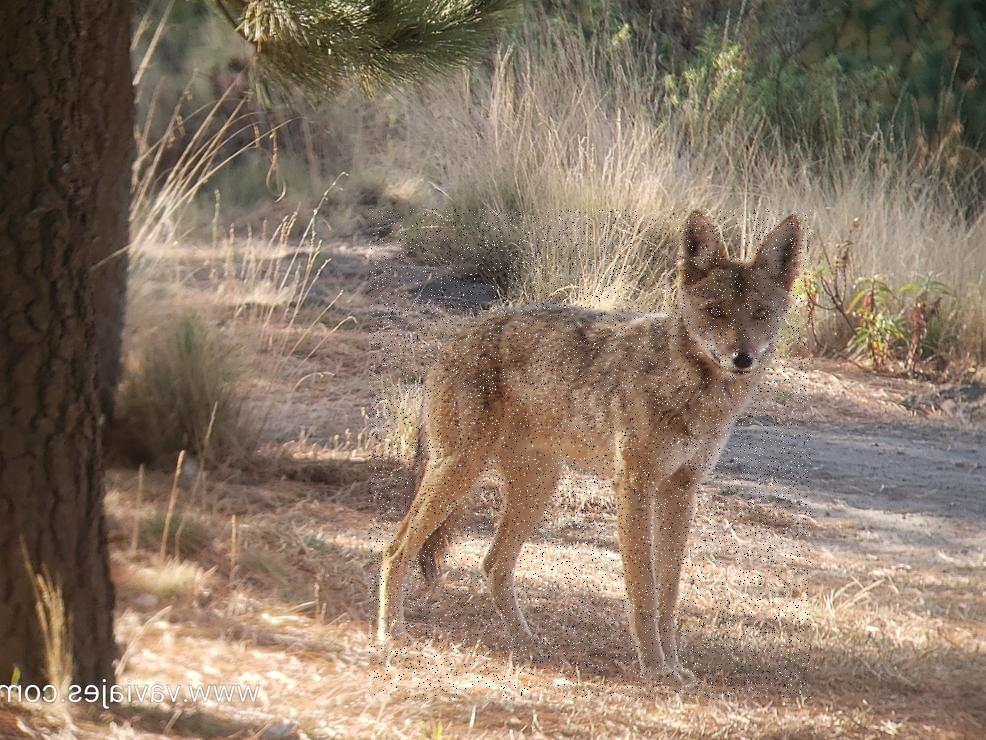Coyote: (369, 210, 811, 700)
